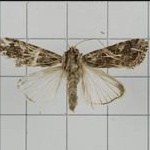Spodoptera litura: (0, 36, 149, 113)
